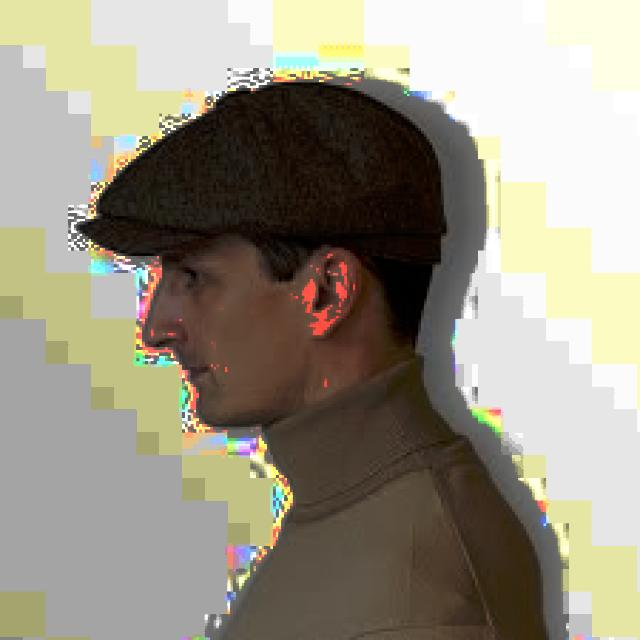TOPI: (71, 74, 455, 267)
